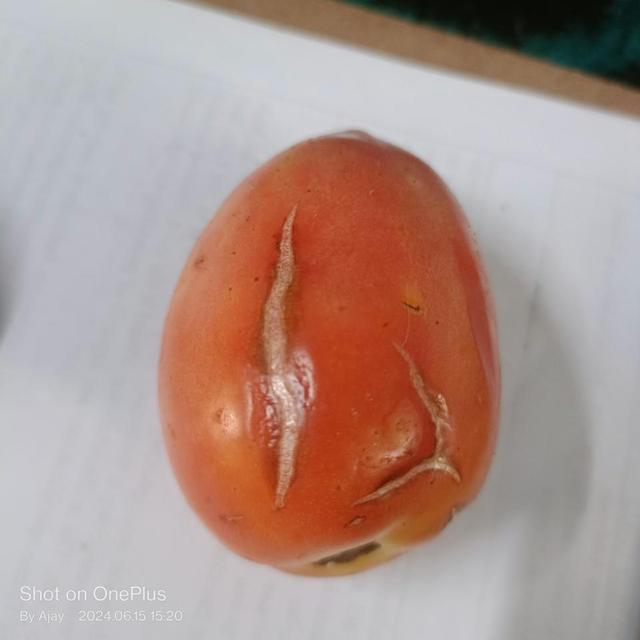Cracking Fruit: (177, 262, 310, 325)
